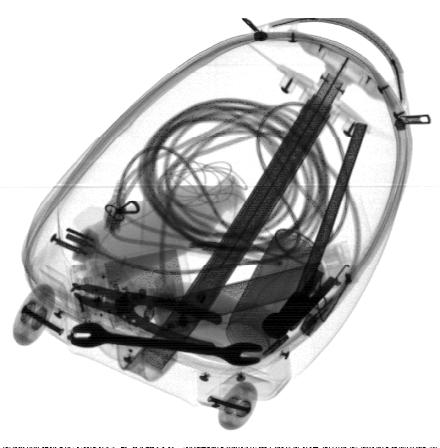Hammer: (262, 123, 369, 340)
Pliers: (74, 283, 225, 354)
Powerbank: (70, 245, 200, 338)
Wrench: (68, 321, 264, 367)
